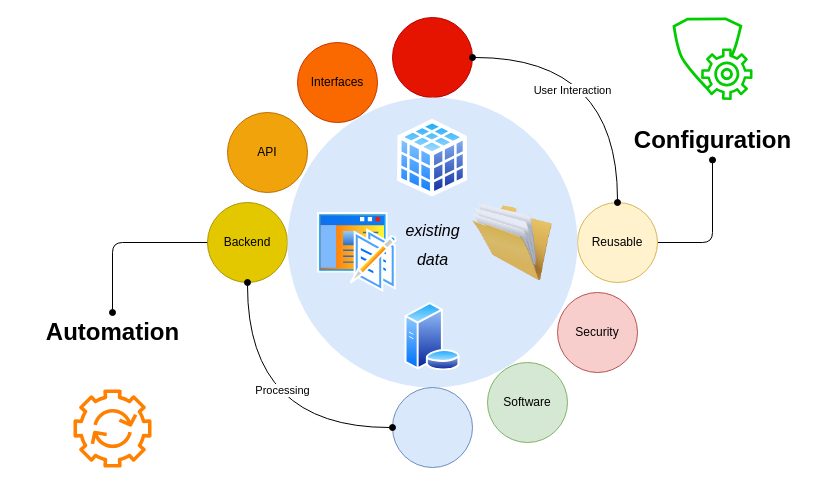
The diagram is 824 pixels wide and 485 high, and some of its shapes have lost their labels. The box of each missing label's shape, as (x1, y1, x2, y2) in pixels:
Database: (392, 16, 472, 98)
Standards: (392, 386, 472, 468)
